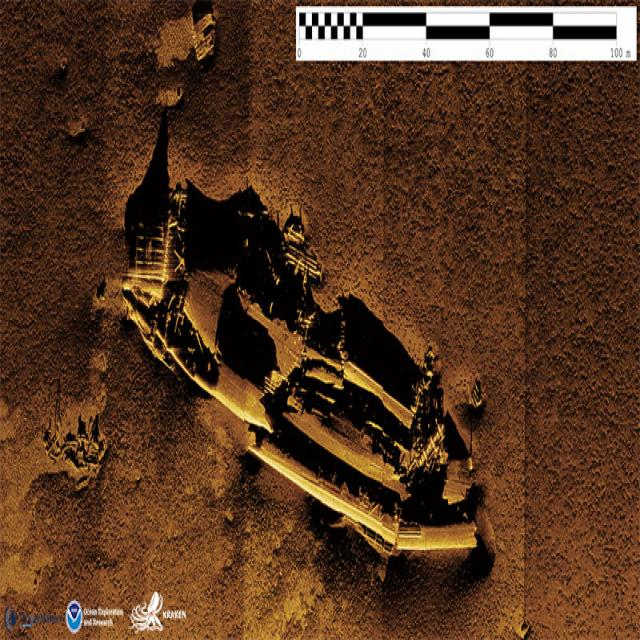ship: (120, 207, 486, 573)
